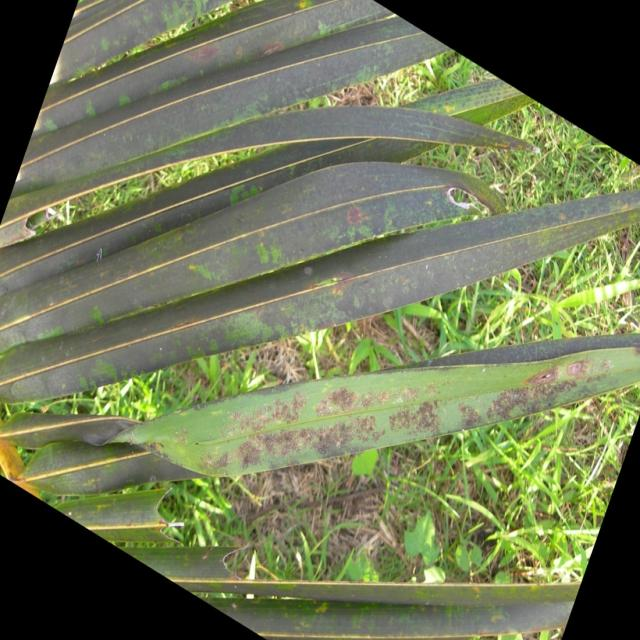Sooty Mold: (1, 1, 638, 634)
